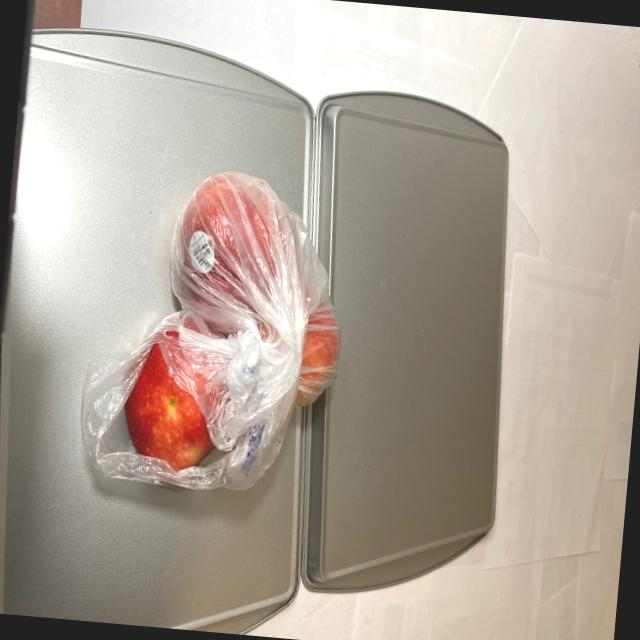apple: (109, 167, 355, 502)
